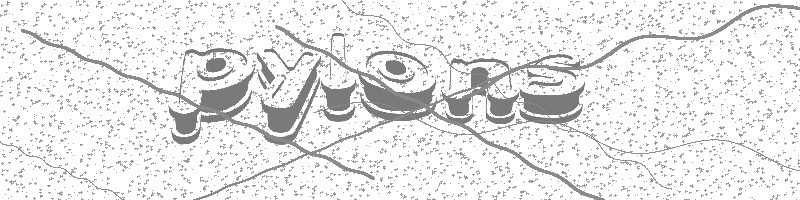l: (318, 31, 358, 122)
n: (438, 54, 520, 126)
o: (356, 46, 439, 120)
p: (166, 43, 253, 145)
s: (518, 49, 585, 126)
y: (254, 42, 315, 146)
